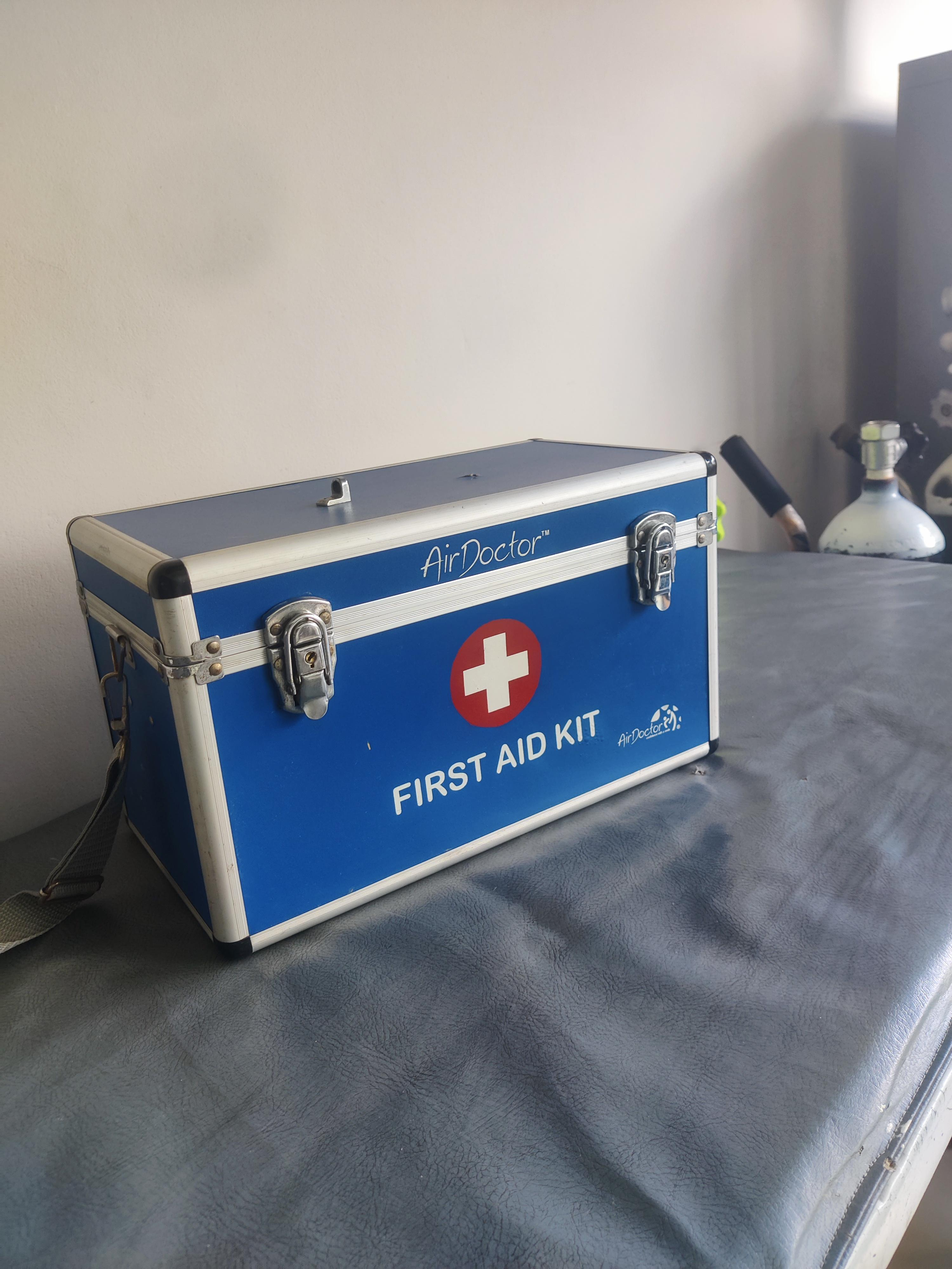FirstAidBox: (52, 406, 801, 990)
